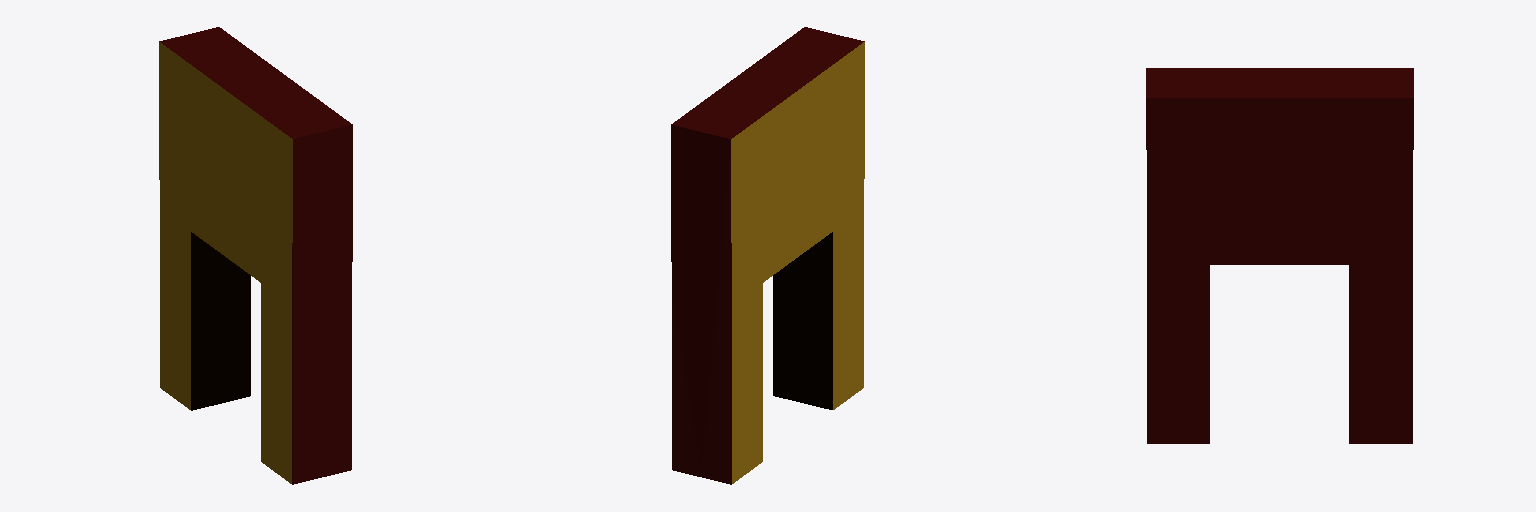
The model's file is Doorway.obj.
3 views of the same model, side by side, from view 1: azimuth 30°, elevation 25°; view 2: azimuth 150°, elevation 25°; view 3: azimuth 270°, elevation 25° (orthographic).
Parts seen in each view (by area): view 1: Doorway_Cube.011; view 2: Doorway_Cube.011; view 3: Doorway_Cube.011.
Part boxes in pixels (x1,y1,x2,y2): Doorway_Cube.011: (159, 27, 352, 484); Doorway_Cube.011: (671, 27, 864, 484); Doorway_Cube.011: (1146, 68, 1413, 443).
Bounding box in the file's own units: 2 × 11 × 7.7.